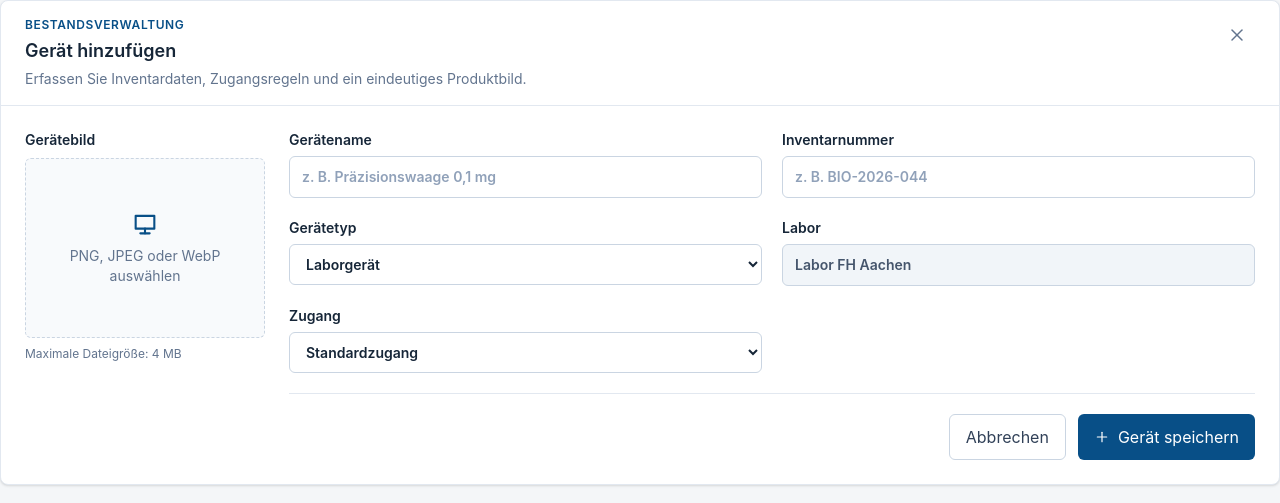
Test: CreateEquipmentForm › requires an equipment image before submitting
This screenshot has width=1280, height=503.
In the field labelled "Gerätename": [526, 177] box [289, 156, 762, 198], type "Präzisionswaage 0,1 mg"
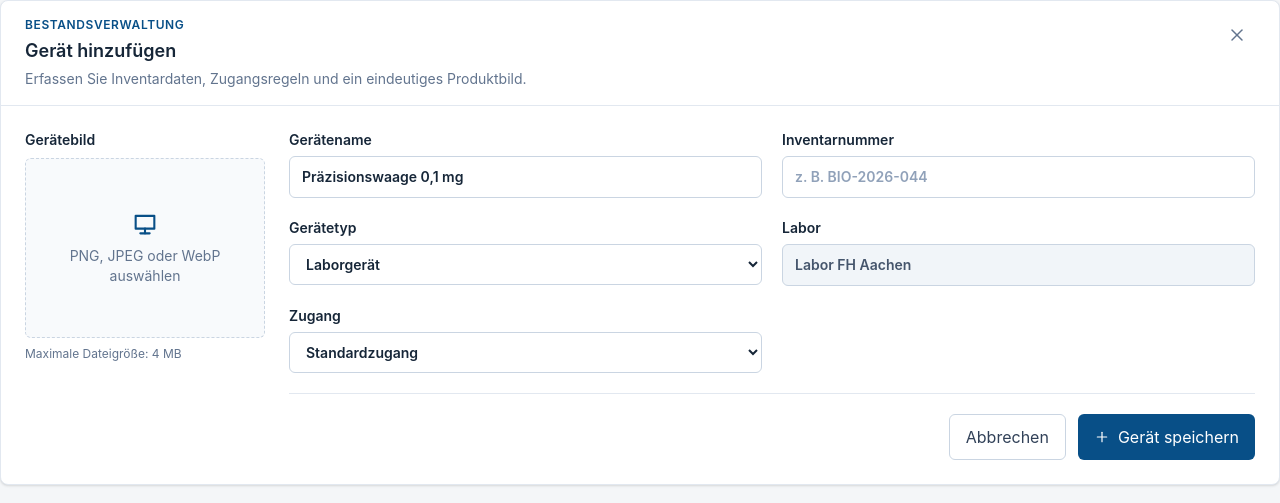
In the field labelled "Inventarnummer": [1018, 177] box [782, 156, 1255, 198], type "BIO-2026-099"
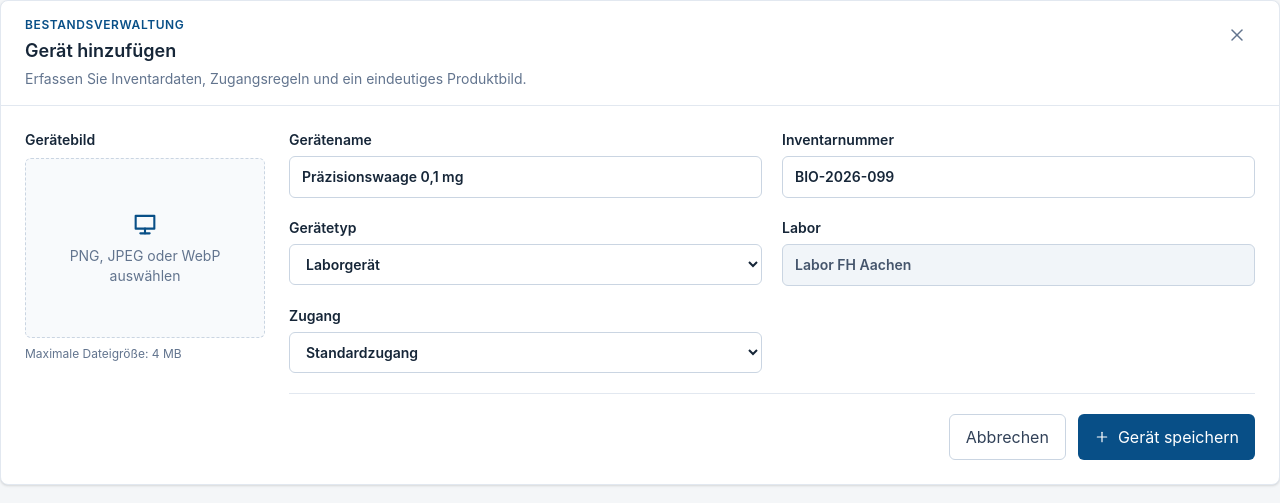
Click the button "Gerät speichern": [1166, 437] box [1078, 414, 1255, 460]
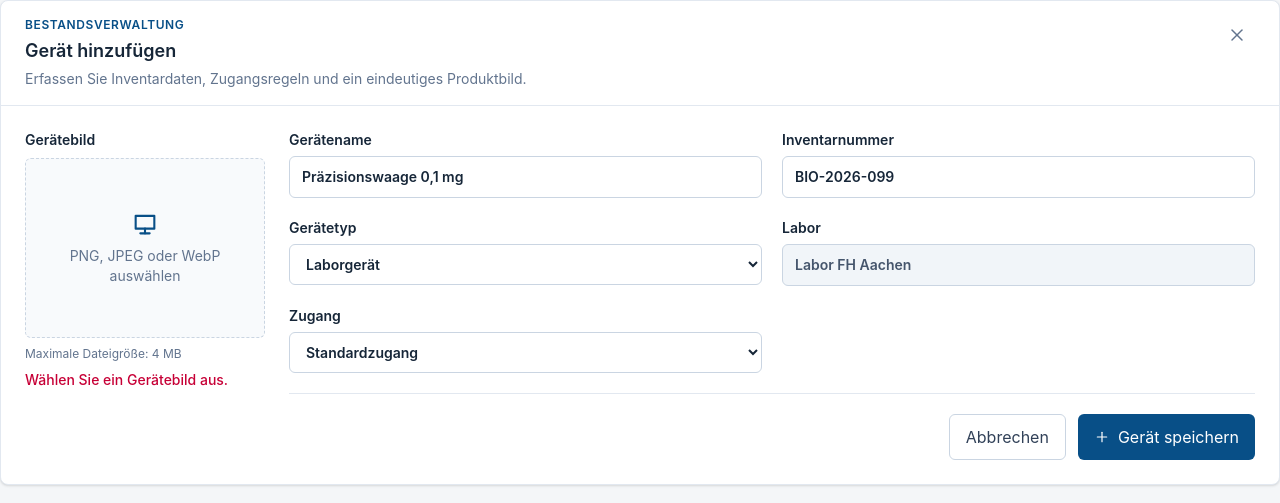
Expected: the message reads "Wählen Sie ein Gerätebild aus.", [25, 371, 228, 388]
